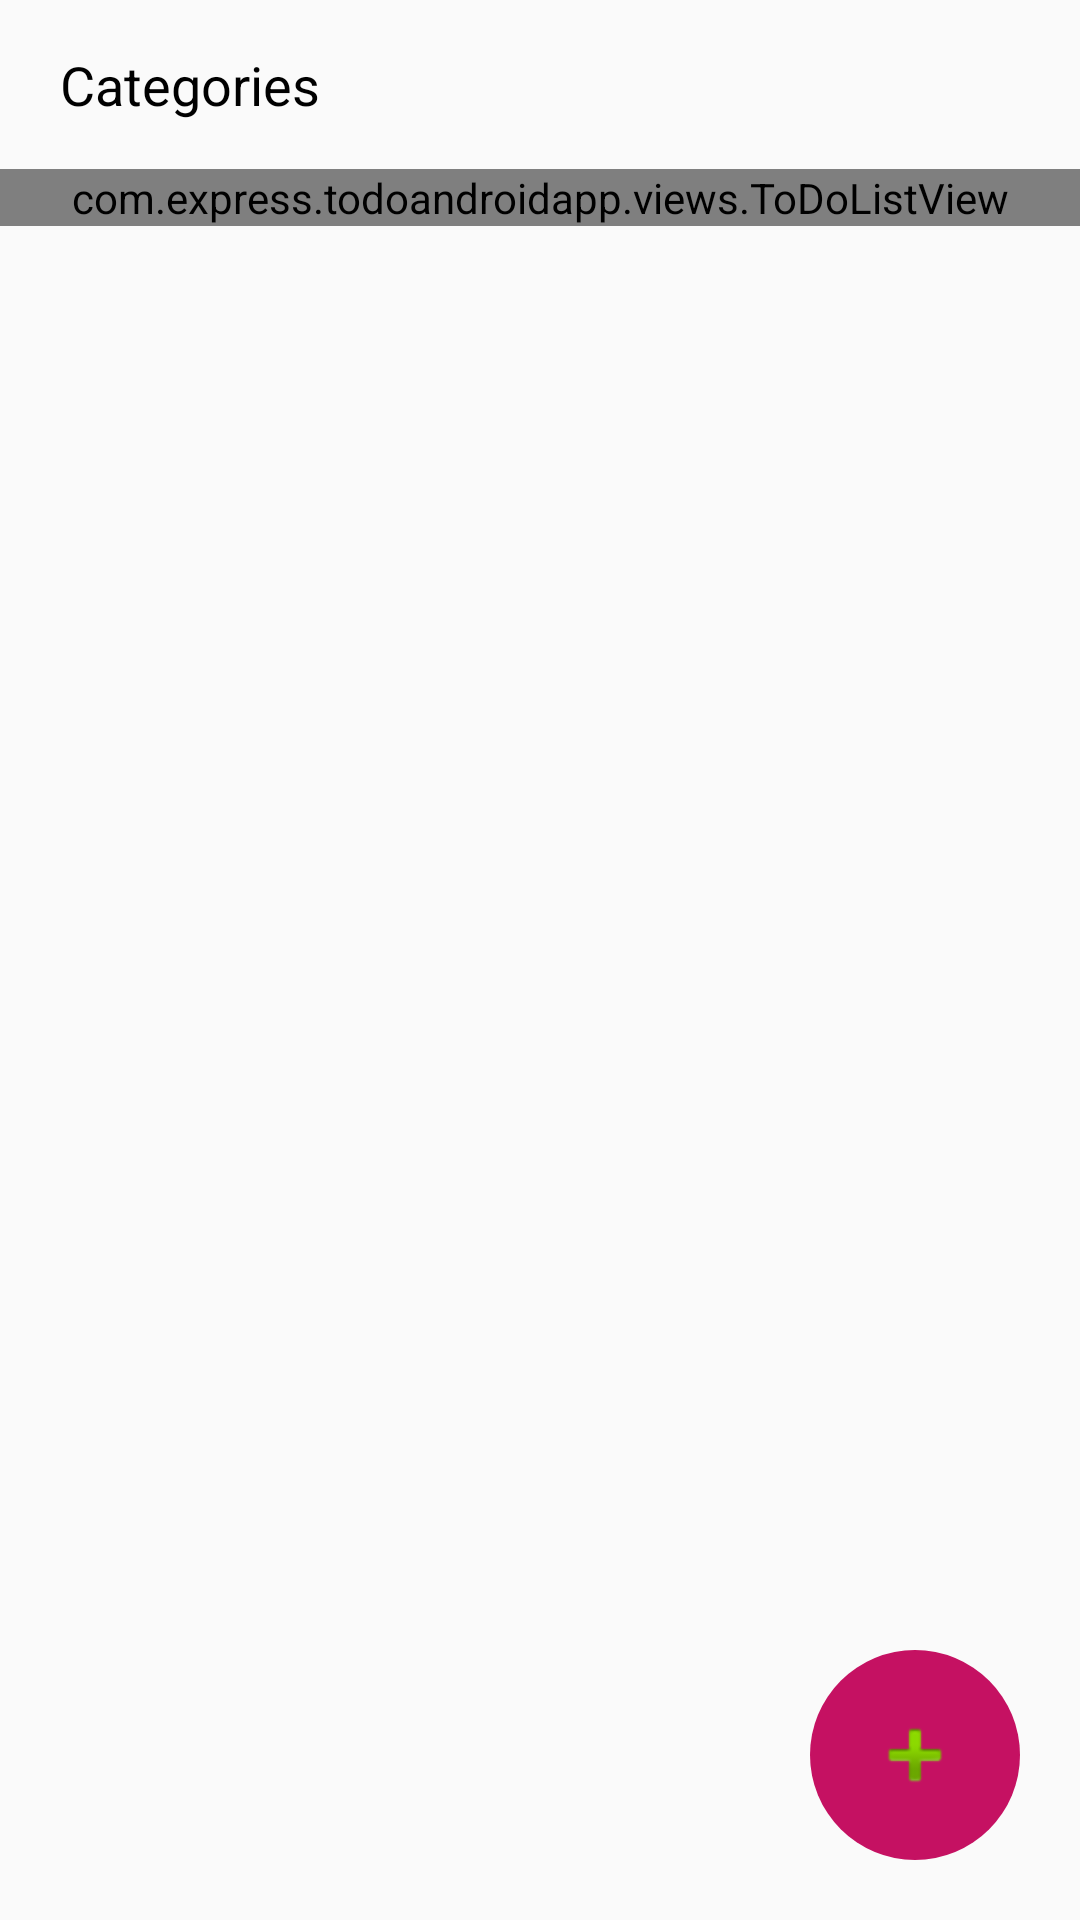

Screen size 1080w x 1920h. Icon name, then its center in pixels as point (x, y):
add: point (915, 1755)
